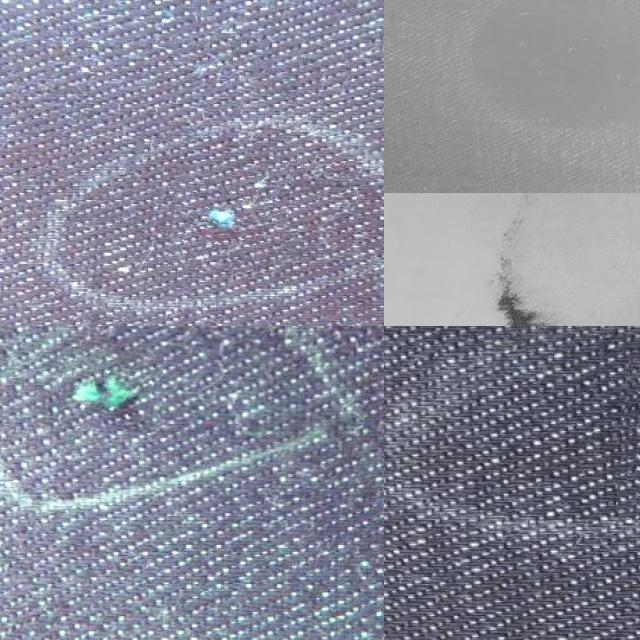Thread_other: (475, 192, 640, 326)
stains: (170, 161, 290, 273), (59, 347, 163, 431)
